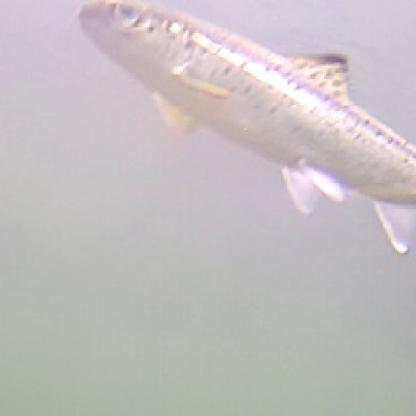salmon: (74, 0, 415, 264)
